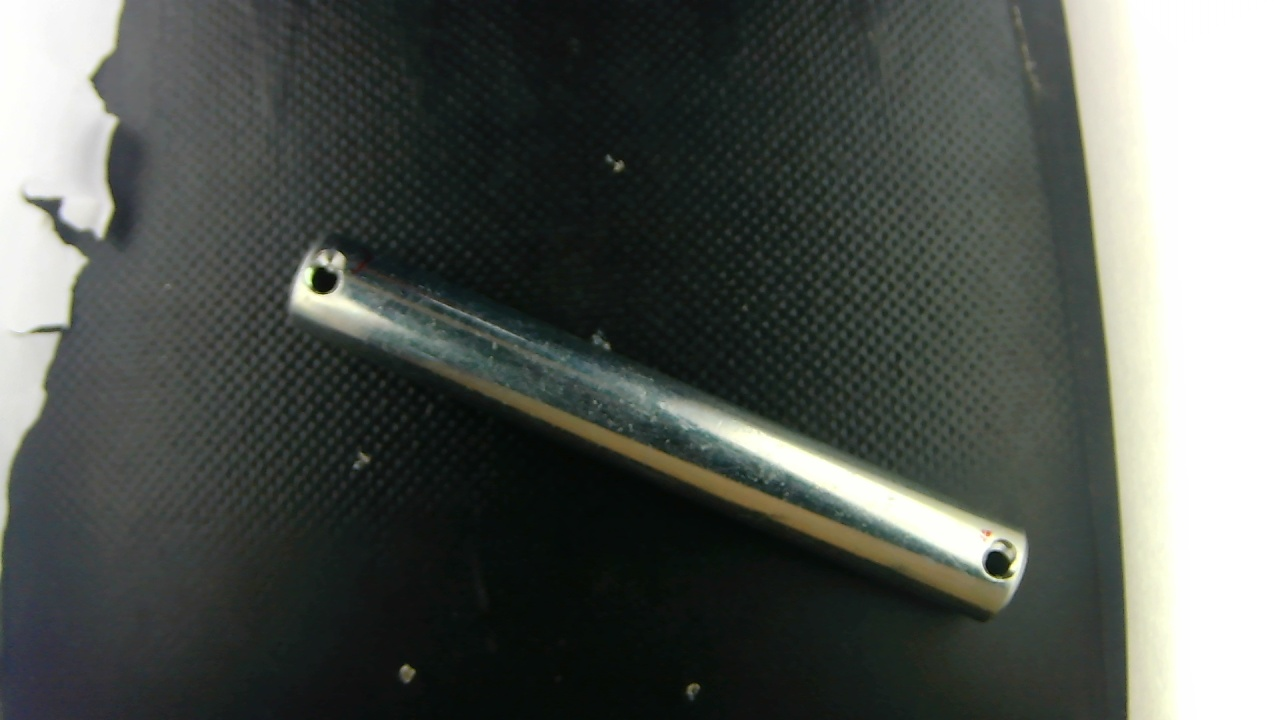drill touch_pin: (981, 536, 1029, 574)
